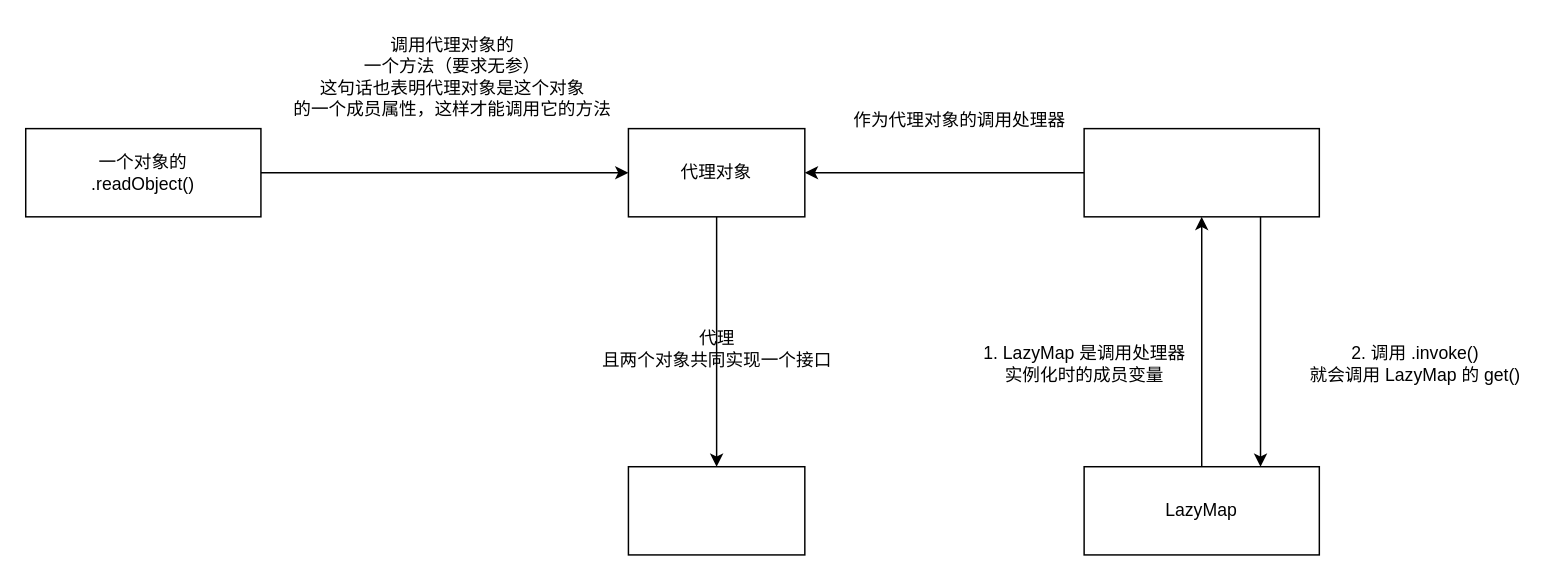
The diagram is 1566 pixels wide and 581 high, and some of its shapes have lost their labels. The shapes that lost their labels are listed below. From the top down, each one's box as (x1, y1, x2, y2) in pixels, then its label:
(1083, 127, 1319, 217): AnnotationInvocationHandler .invoke()
(627, 465, 805, 555): 被代理对象 目标对象
